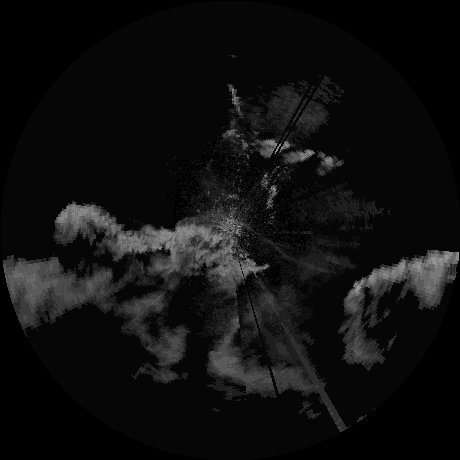frontgust: (239, 223, 307, 265)
